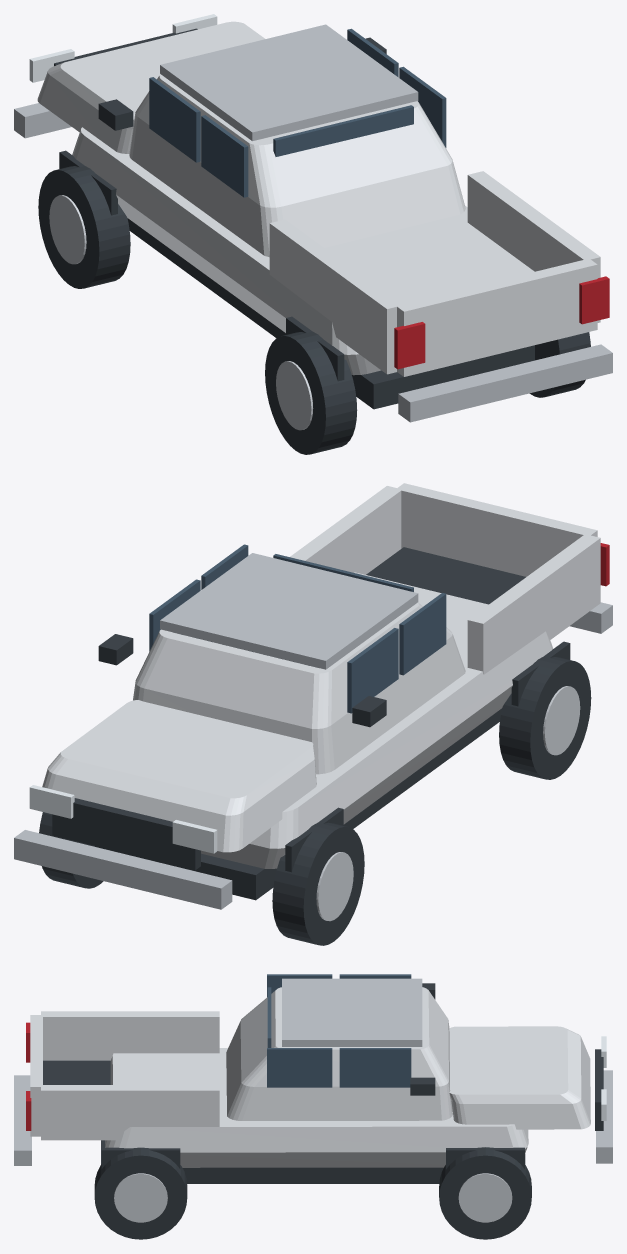
File: ford_ranger_2024.glb
The picture shows the model from 3 angles, top to bottom: view 1: azimuth 30°, elevation 25°; view 2: azimuth 150°, elevation 25°; view 3: azimuth 270°, elevation 25°; orthographic projection. The views are drawn at different scales.
Parts seen in each view (by area): view 1: cabin, body_shell, roof, tailgate, hood, bed_side_-1, rear_bumper, tire_-1_1.64, tire_-1_-1.64, bed_side_1, chassis, front_window_-1 (+14 smaller); view 2: hood, cabin, roof, body_shell, tailgate, bed_side_-1, front_bumper, tire_-1_-1.64, tire_-1_1.64, bed_side_1, grille, bed_floor (+16 smaller); view 3: body_shell, cabin, hood, roof, bed_side_1, bed_side_-1, tire_1_1.64, tire_1_-1.64, chassis, front_window_1, rear_window_1, rim_1_-1.64 (+10 smaller).
Boxes of the visible parts, bbox=[...] form: cabin: bbox=[129, 74, 465, 257]; body_shell: bbox=[72, 127, 534, 375]; roof: bbox=[160, 24, 418, 141]; tailgate: bbox=[396, 258, 597, 376]; hood: bbox=[37, 21, 265, 153]; bed_side_-1: bbox=[269, 219, 400, 374]; rear_bumper: bbox=[398, 344, 612, 422]; tire_-1_1.64: bbox=[265, 331, 357, 454]; tire_-1_-1.64: bbox=[38, 166, 130, 288]; bed_side_1: bbox=[467, 171, 600, 322]; chassis: bbox=[127, 218, 534, 409]; front_window_-1: bbox=[149, 77, 200, 162]; hood: bbox=[42, 700, 316, 852]; cabin: bbox=[133, 602, 465, 774]; roof: bbox=[160, 553, 418, 669]; body_shell: bbox=[201, 572, 553, 868]; tailgate: bbox=[396, 483, 597, 576]; bed_side_-1: bbox=[467, 535, 600, 674]; front_bumper: bbox=[14, 830, 232, 909]; tire_-1_-1.64: bbox=[272, 822, 364, 945]; tire_-1_1.64: bbox=[499, 656, 591, 779]; bed_side_1: bbox=[290, 486, 401, 574]; grille: bbox=[52, 798, 200, 870]; bed_floor: bbox=[366, 547, 525, 604]; body_shell: bbox=[105, 1048, 528, 1167]; cabin: bbox=[226, 987, 452, 1120]; hood: bbox=[449, 1026, 590, 1129]; roof: bbox=[282, 978, 422, 1046]; bed_side_1: bbox=[41, 1085, 219, 1140]; bed_side_-1: bbox=[41, 1011, 219, 1060]; tire_1_1.64: bbox=[94, 1147, 187, 1239]; tire_1_-1.64: bbox=[439, 1147, 531, 1239]; chassis: bbox=[101, 1140, 525, 1183]; front_window_1: bbox=[339, 1048, 411, 1087]; rear_window_1: bbox=[267, 1048, 332, 1087]; rim_1_-1.64: bbox=[458, 1173, 512, 1222].
Size of the model in its own units: 2.26 by 1.9 by 5.68.
